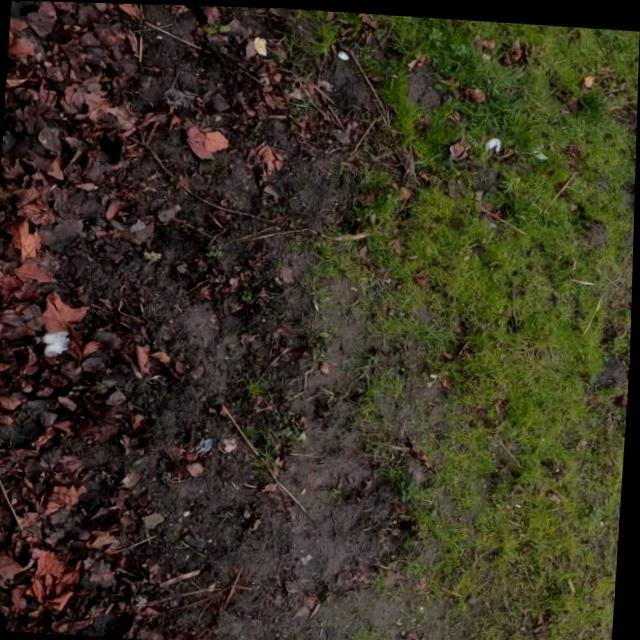Can-Metal: (336, 47, 350, 57)
Paper: (40, 327, 73, 357)
